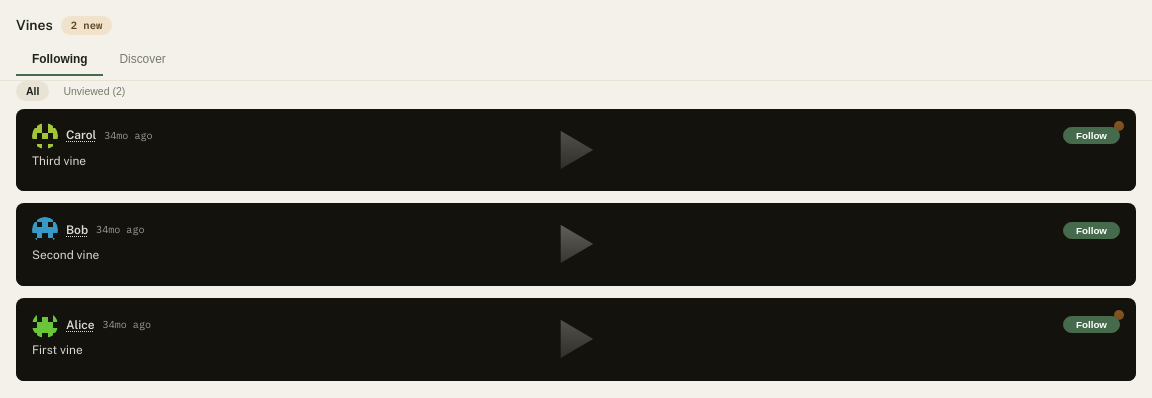
VineFeed › filters to unviewed when filter tab is clicked
This screenshot has width=1152, height=398.
Step 1. Click the button "Unviewed (2)" → (94, 91), box [53, 81, 135, 101]
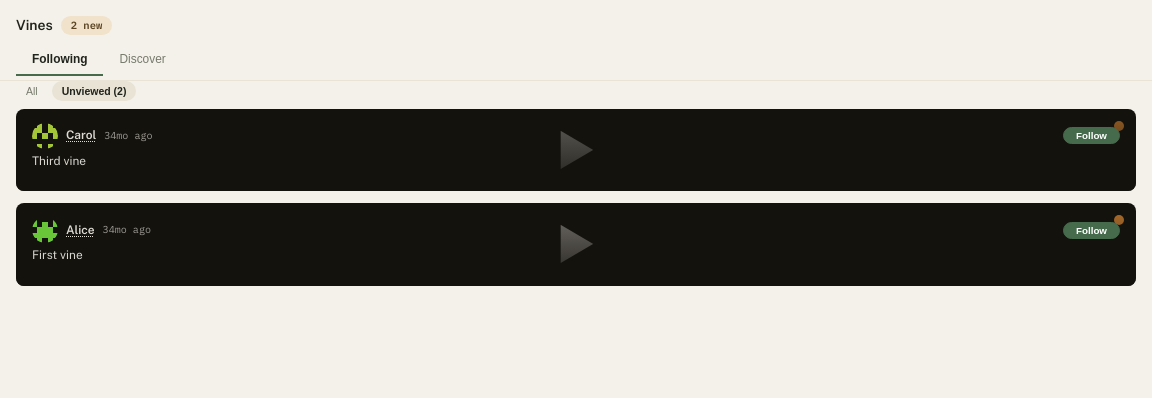
Expected: the list item "▶ Carol 34mo ago Follow Third vine" is shown, [16, 109, 1136, 191]
Result: the number of list items is 2 at [16, 109, 1136, 191]; [16, 203, 1136, 286]
